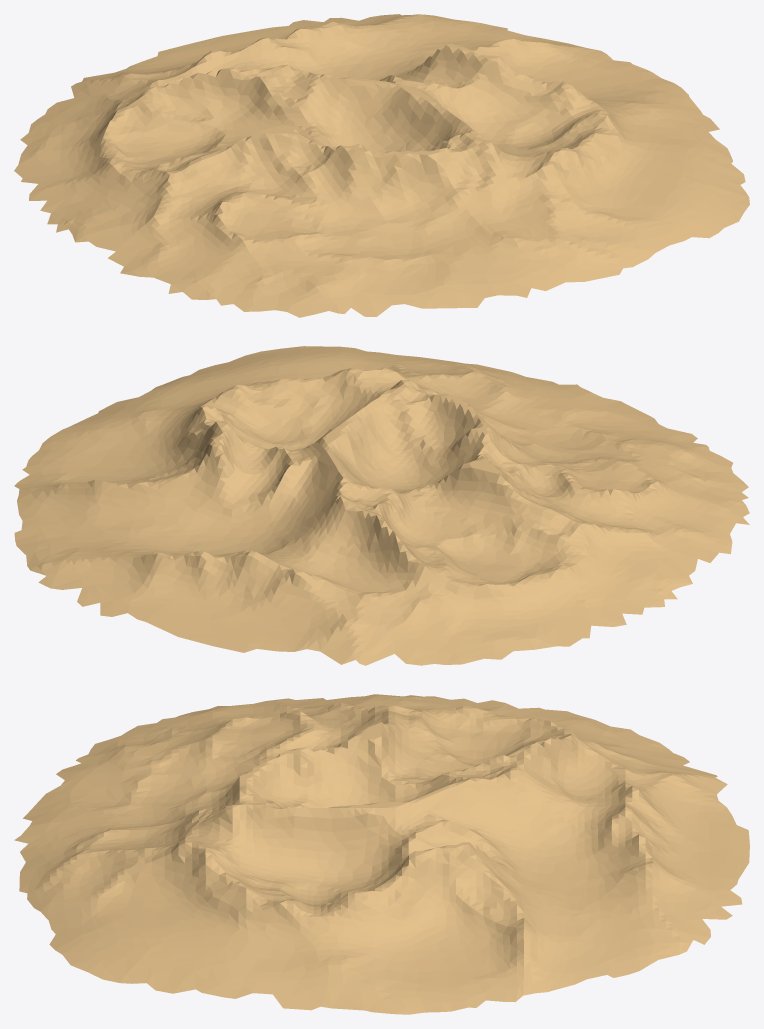
File: MT_Island_L_f_10_LOD.fbx
3 views of the same model, one above another, from view 1: azimuth 30°, elevation 25°; view 2: azimuth 150°, elevation 25°; view 3: azimuth 270°, elevation 25° (orthographic). The views are drawn at different scales.
Parts seen in each view (by area): view 1: MT_Island_L_f_10_LOD0; view 2: MT_Island_L_f_10_LOD0; view 3: MT_Island_L_f_10_LOD0.
Boxes of the visible parts, left/top/right/bottom form: MT_Island_L_f_10_LOD0: left=14, top=14, right=749, bottom=317; MT_Island_L_f_10_LOD0: left=14, top=346, right=749, bottom=665; MT_Island_L_f_10_LOD0: left=14, top=694, right=749, bottom=1014.
Size of what is drawn, in the model's own units: 17461 by 1780 by 16987.
